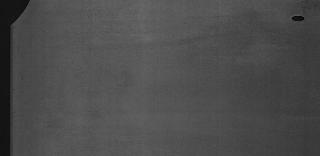punching hole: (286, 14, 316, 28)
